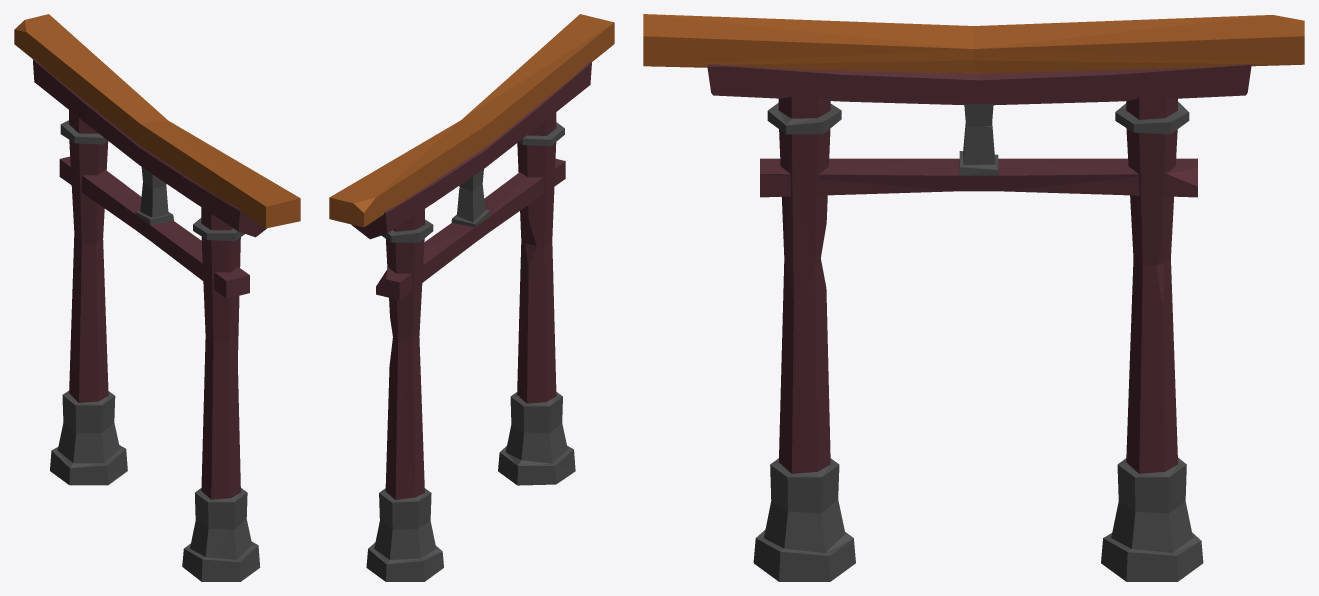
File: torii_gate.glb
3 views of the same model, side by side, from view 1: azimuth 30°, elevation 25°; view 2: azimuth 150°, elevation 25°; view 3: azimuth 270°, elevation 25° (orthographic). The views are drawn at different scales.
Parts seen in each view (by area): view 1: M_Gate; view 2: M_Gate; view 3: M_Gate.
Boxes of the visible parts, x1=… form: M_Gate: x1=14, y1=14, x2=300, y2=581; M_Gate: x1=329, y1=14, x2=614, y2=581; M_Gate: x1=643, y1=14, x2=1304, y2=581.
Size of the model in its own units: 1.02 by 6.8 by 7.57.
1 material, 1 textured.
